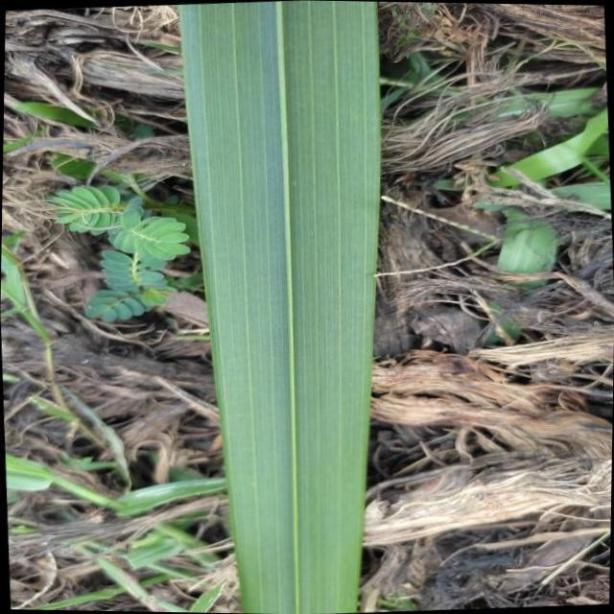Healthy: (177, 0, 379, 614)
